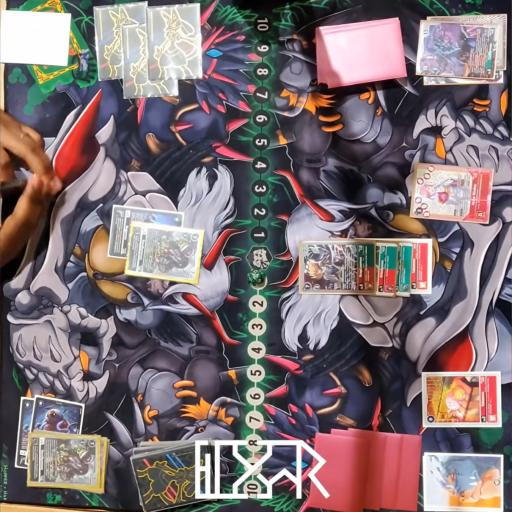card: (409, 161, 494, 228), (412, 19, 498, 79), (421, 368, 504, 430), (128, 220, 204, 286), (295, 243, 376, 296), (27, 433, 101, 491), (110, 202, 183, 258), (30, 393, 84, 441), (12, 397, 34, 471), (372, 242, 401, 294), (412, 239, 434, 297), (395, 242, 415, 299)
